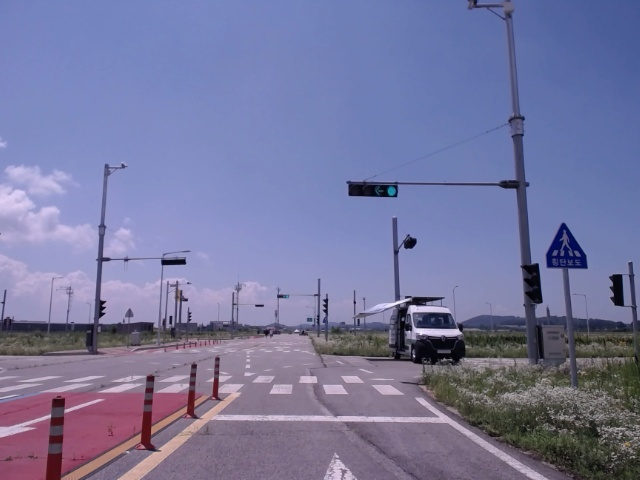all_green_4: (347, 179, 398, 196)
